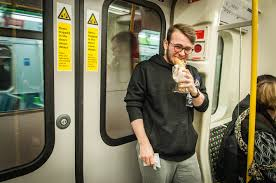eating: (127, 19, 239, 144)
